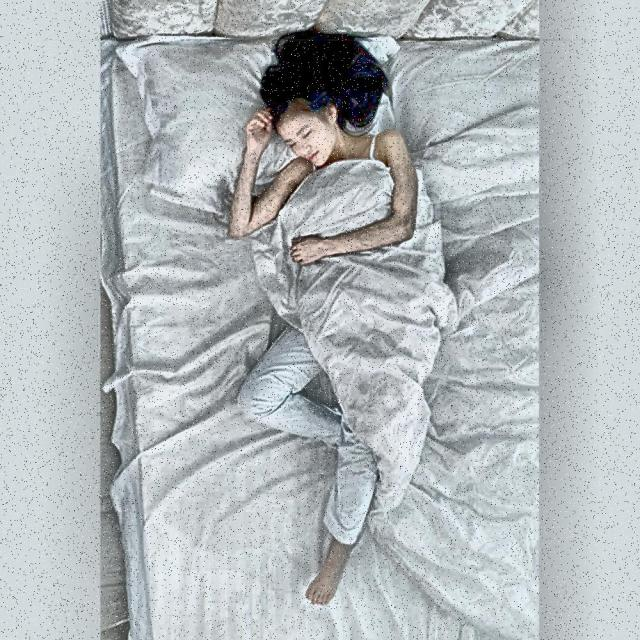Supine: (228, 30, 458, 605)
